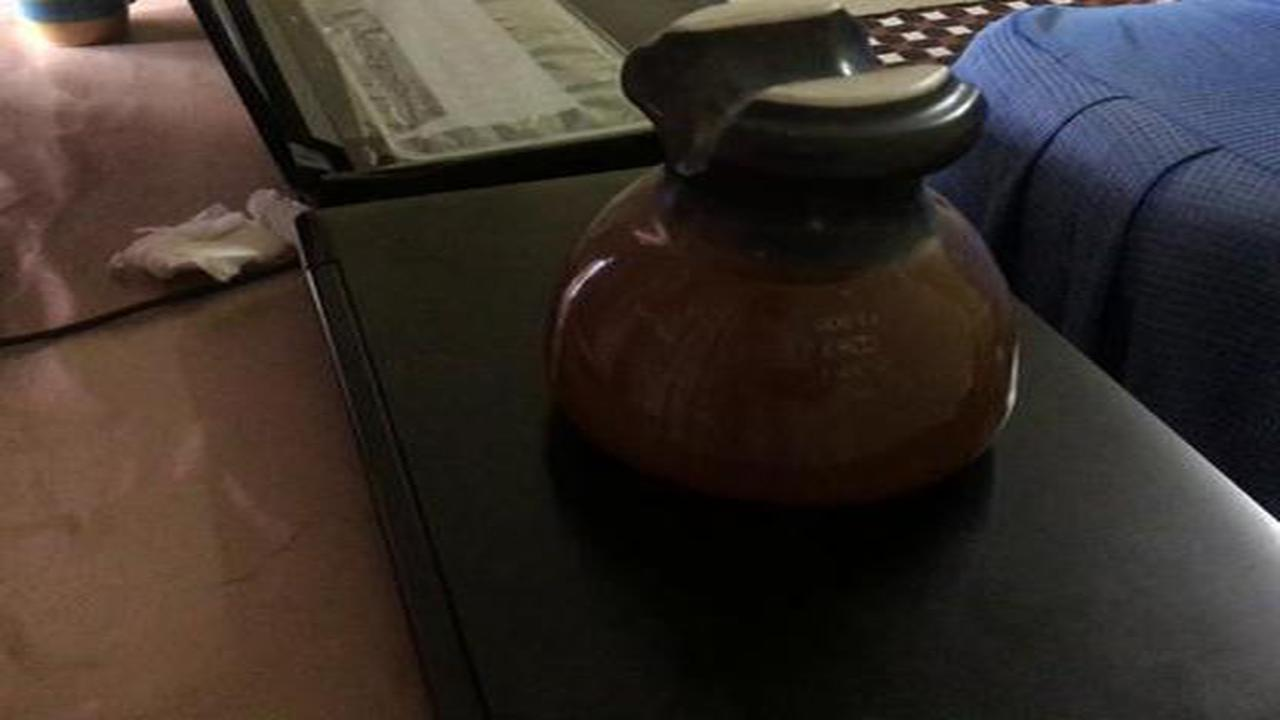insulator_pin: (521, 4, 1031, 520)
